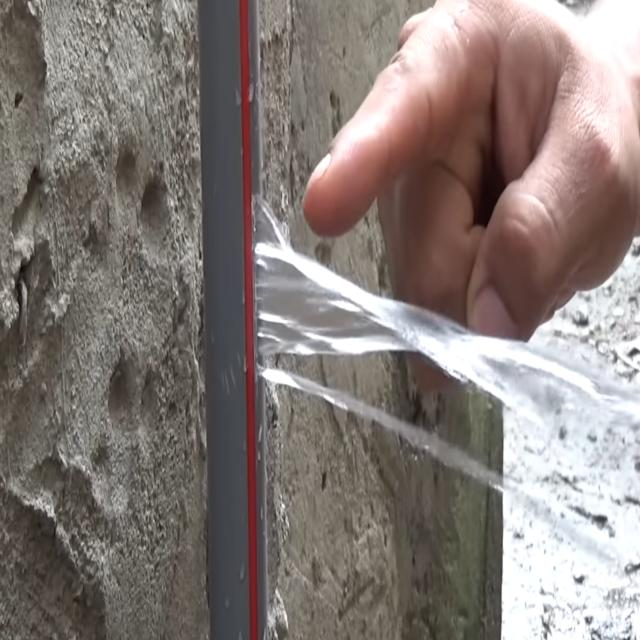leak: (254, 198, 640, 429), (259, 367, 511, 491)
